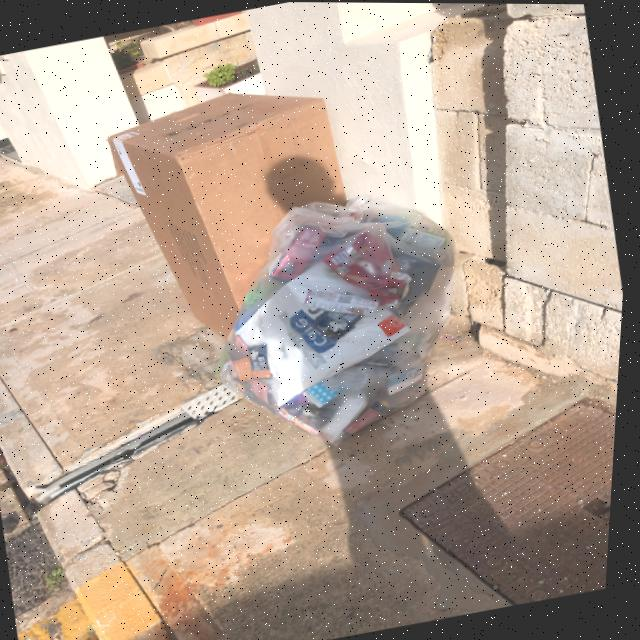Organic Waste -White Bag-: (195, 184, 490, 466)
